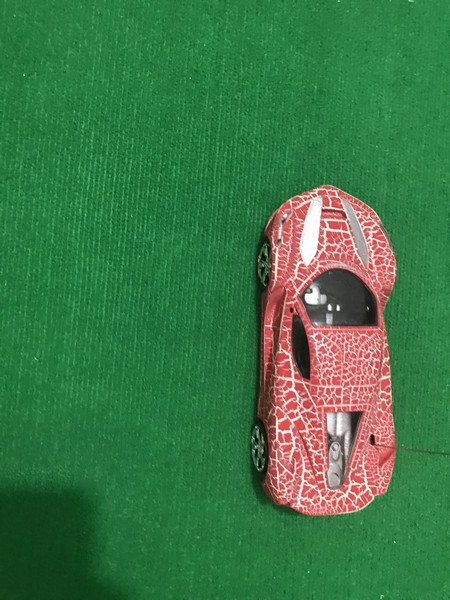RC: (249, 183, 400, 517)
